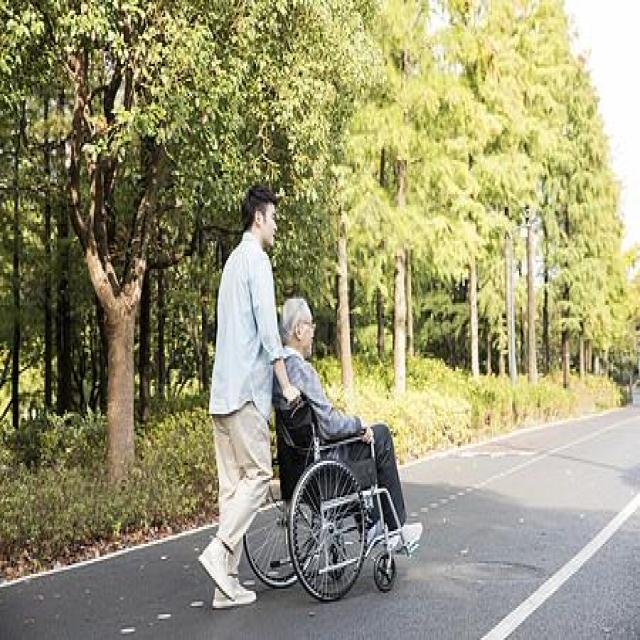wheelchairs: (235, 355, 420, 608)
